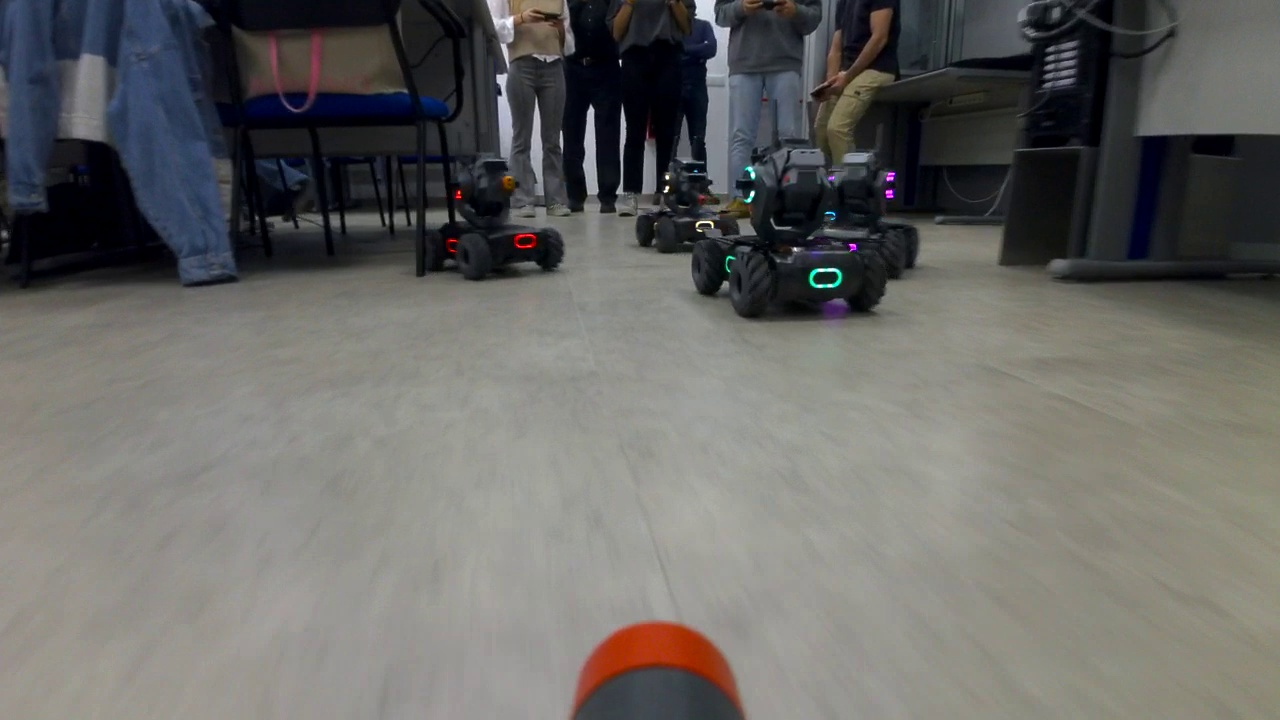robot: (690, 136, 884, 325), (419, 155, 566, 282), (827, 152, 921, 275), (632, 154, 740, 256)
